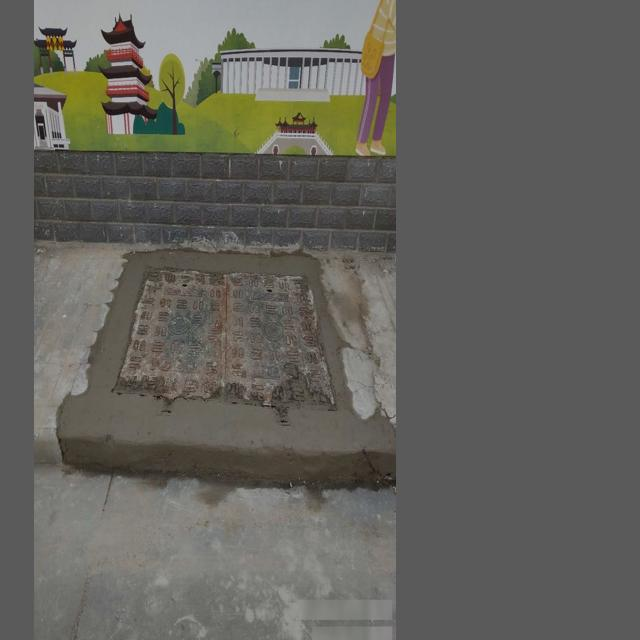good: (108, 263, 343, 426)
